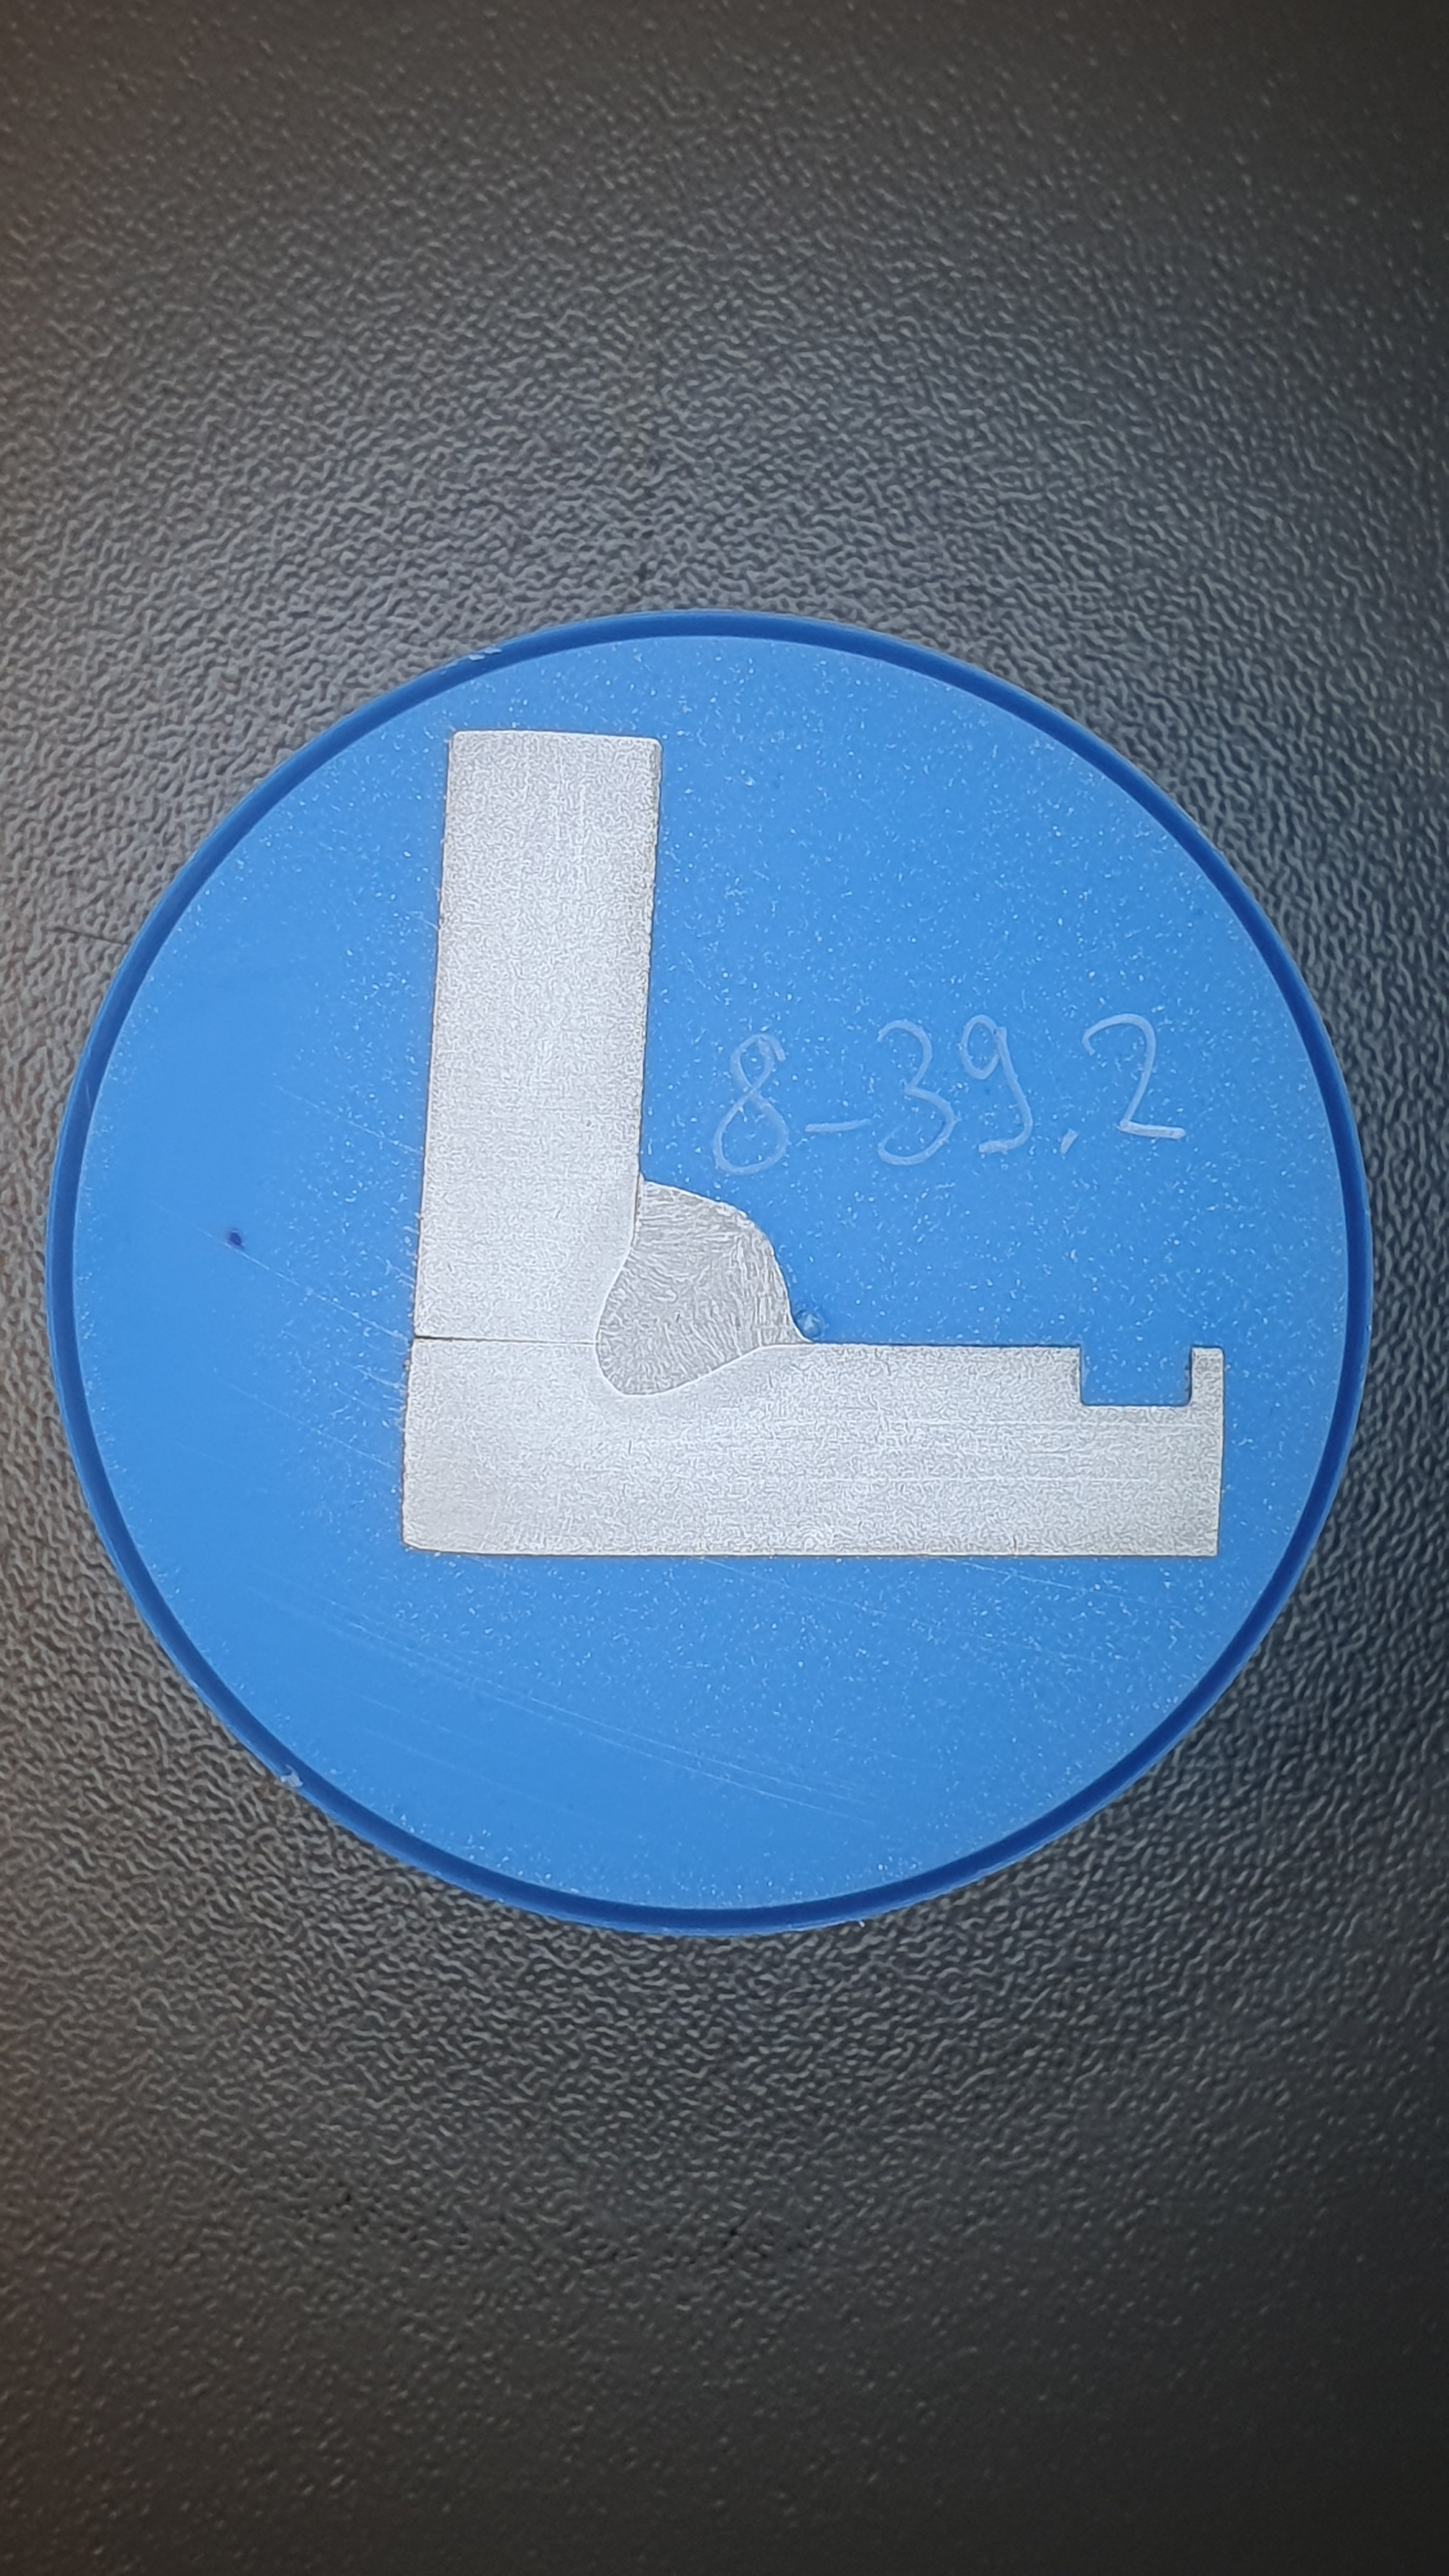Fusion: (595, 1173, 813, 1396)
Hintergrund: (75, 636, 1347, 1909)
Metall: (401, 729, 1224, 1556)
Nebenbereich: (559, 1143, 816, 1432)
